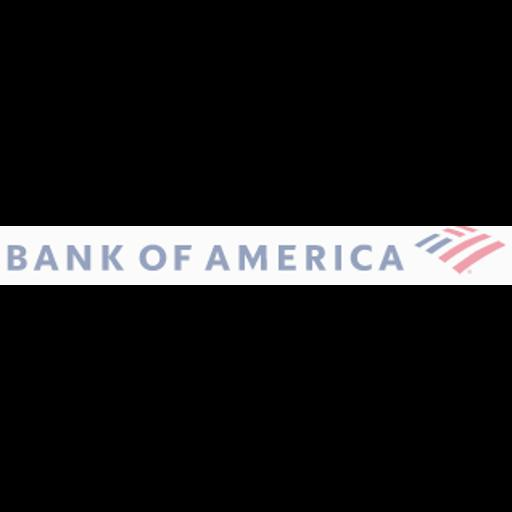Bank of America: (0, 226, 512, 285)
